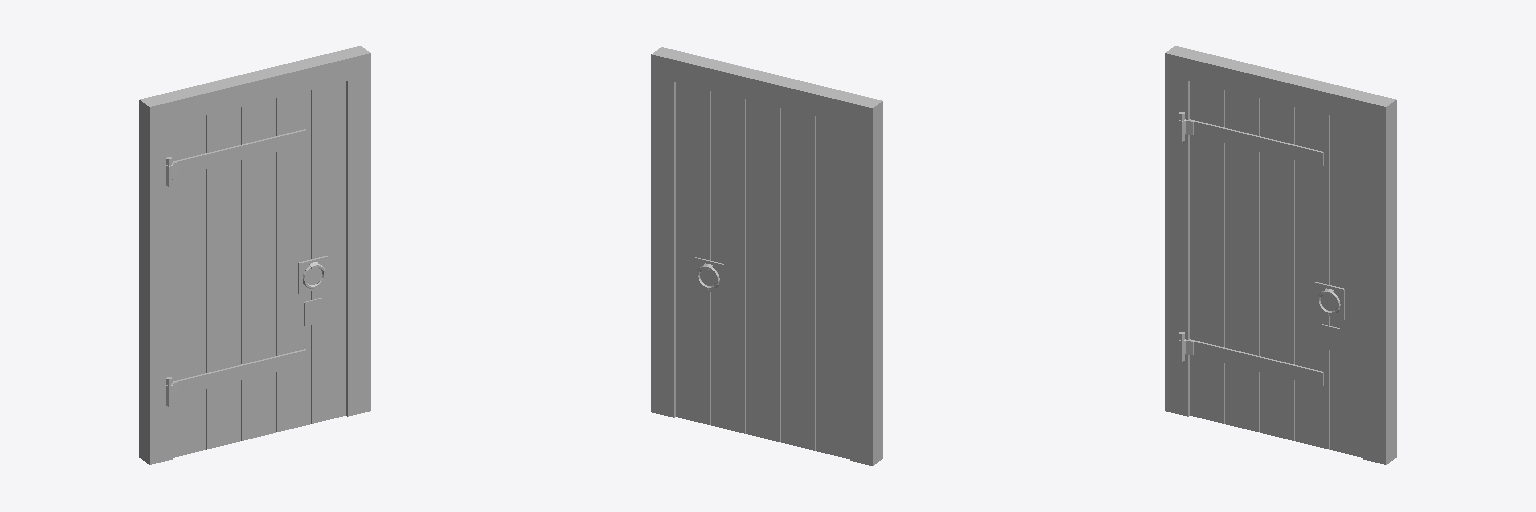
Rendered from door.obj.
3 renders of one model, left to right at view 1: azimuth 30°, elevation 25°; view 2: azimuth 150°, elevation 25°; view 3: azimuth 330°, elevation 25°, orthographic.
Visible parts, largest first — view 1: door; view 2: door; view 3: door.
Boxes of the visible parts, <box> form: door: <box>139,46,370,464</box>; door: <box>651,47,882,465</box>; door: <box>1165,46,1396,464</box>.
Bounding box in the file's own units: 59.67 × 92.27 × 6.74.